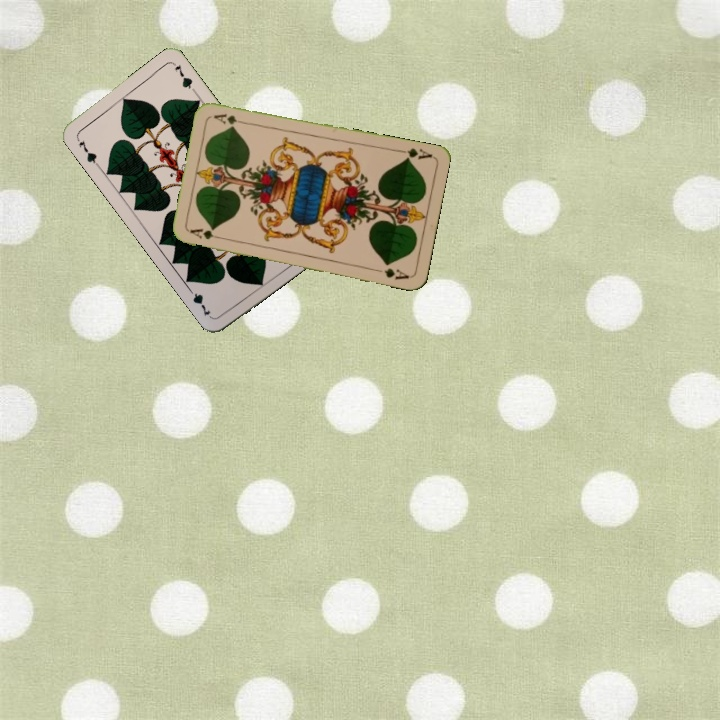G7: (74, 136, 101, 168)
GA: (394, 144, 435, 163), (186, 225, 226, 242)
